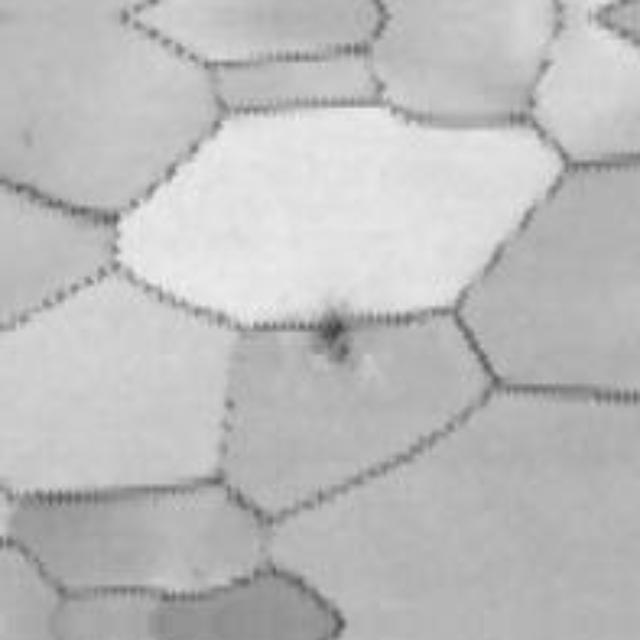good_void: (314, 308, 356, 370)
